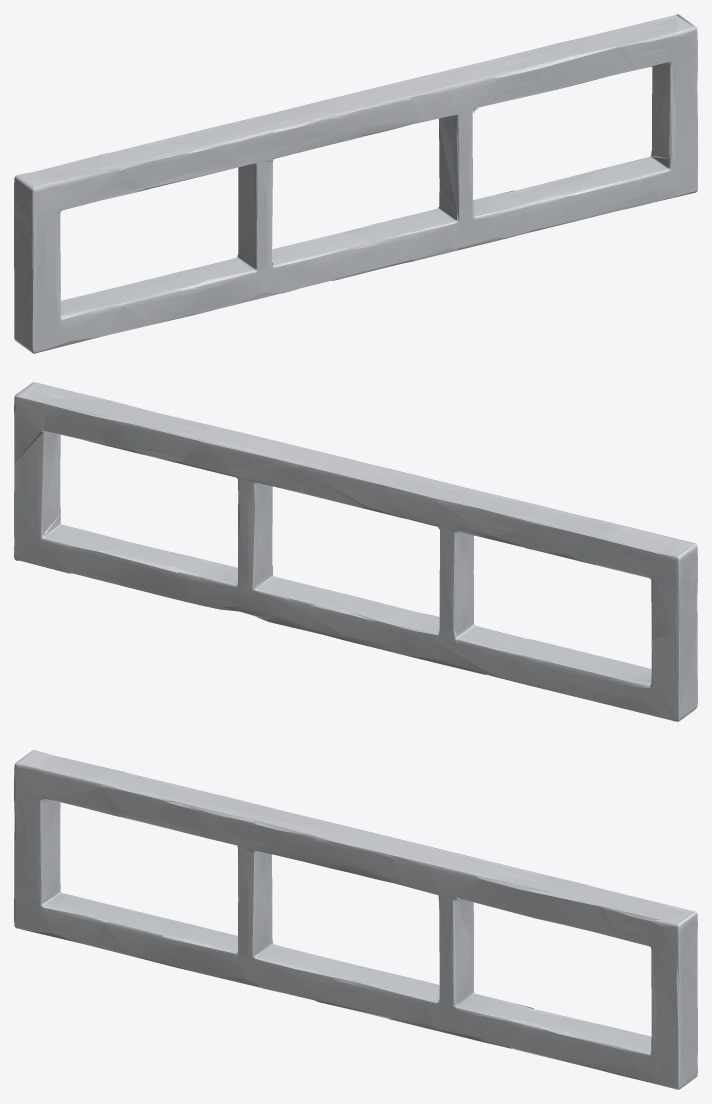
File: win_semi_letterbox.glb
3 views of the same model, one above another, from view 1: azimuth 30°, elevation 25°; view 2: azimuth 150°, elevation 25°; view 3: azimuth 330°, elevation 25° (orthographic).
Bounding box in the file's own units: 1.9 × 0.4534 × 0.0963.
1 material, 1 textured.
